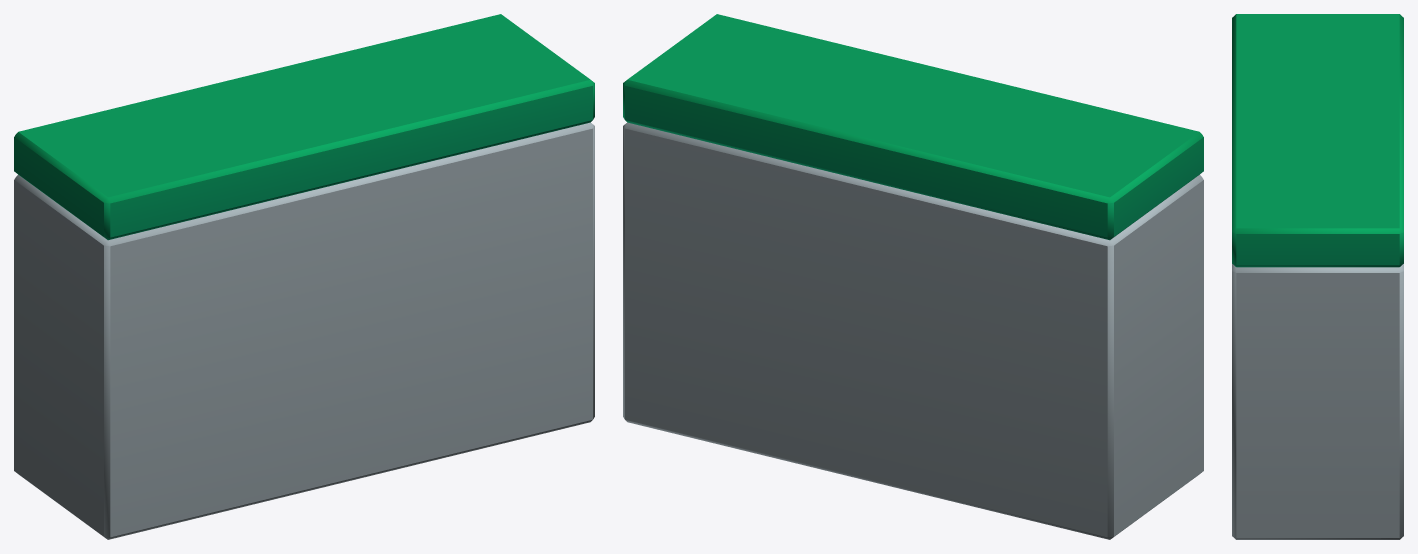
The model's file is platform_6x2x4_green.glb.
The picture shows the model from 3 angles, left to right: view 1: azimuth 30°, elevation 25°; view 2: azimuth 150°, elevation 25°; view 3: azimuth 270°, elevation 25°; orthographic projection. The views are drawn at different scales.
Visible parts, largest first — view 1: platform_6x2x4_green; view 2: platform_6x2x4_green; view 3: platform_6x2x4_green.
Boxes of the visible parts, left/top/right/bottom form: platform_6x2x4_green: left=14, top=14, right=594, bottom=539; platform_6x2x4_green: left=623, top=14, right=1203, bottom=539; platform_6x2x4_green: left=1232, top=14, right=1403, bottom=539.
Size of the model in its own units: 6 by 4 by 2.
Materials: 1 (1 with a texture image).
